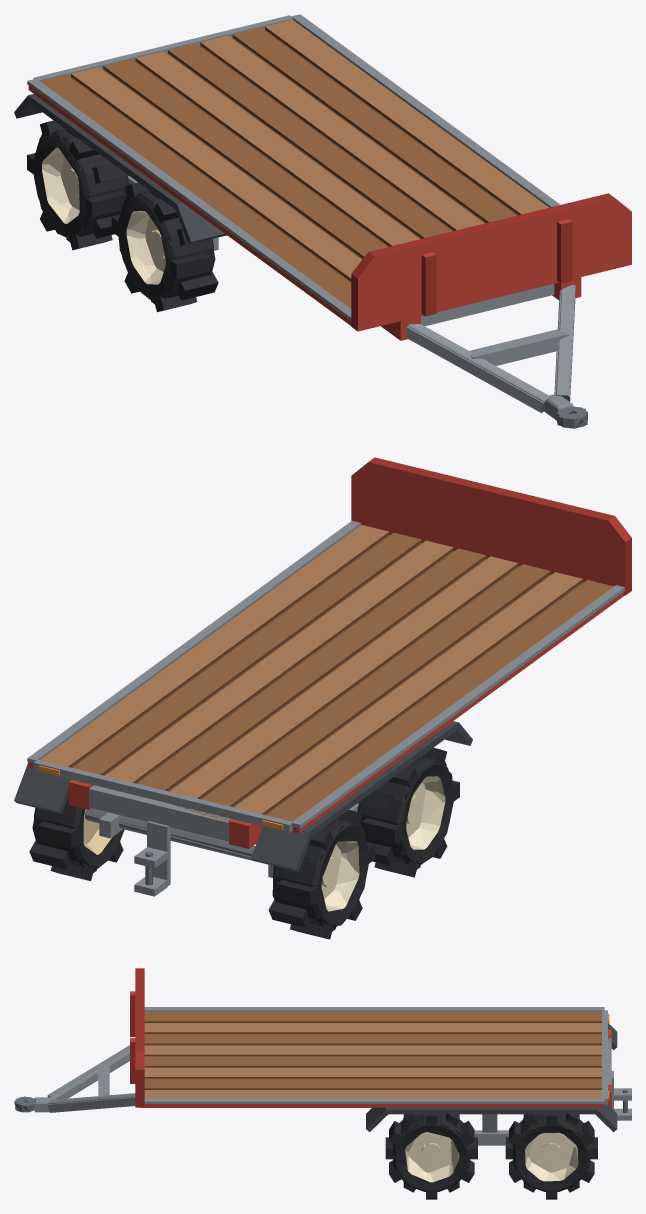
Rendered from FMS_Mach_Trailer_Flatbed.fbx.
The picture shows the model from 3 angles, top to bottom: view 1: azimuth 30°, elevation 25°; view 2: azimuth 150°, elevation 25°; view 3: azimuth 270°, elevation 25°; orthographic projection. The views are drawn at different scales.
Parts seen in each view (by area): view 1: Chassis, Wheel_RR, Wheel_FR, Chassis_Low1, Wheel_FR_Low1, Wheel_RR_Low1; view 2: Chassis, Wheel_RR, Wheel_FR, Chassis_Low1, Wheel_RL, Wheel_FR_Low1, Wheel_RR_Low1, Wheel_RL_Low1; view 3: Chassis, Wheel_RL, Wheel_FL, Chassis_Low1, Wheel_RL_Low1, Wheel_FL_Low1.
Boxes of the visible parts, x1,y1,x2,y2 form: Chassis: (14, 14, 631, 428); Wheel_RR: (27, 120, 128, 250); Wheel_FR: (111, 182, 218, 312); Chassis_Low1: (16, 96, 614, 428); Wheel_FR_Low1: (111, 182, 218, 308); Wheel_RR_Low1: (27, 122, 129, 240); Chassis: (14, 457, 631, 896); Wheel_RR: (268, 810, 375, 939); Wheel_FR: (358, 747, 459, 877); Chassis_Low1: (68, 457, 631, 884); Wheel_RL: (29, 796, 124, 881); Wheel_FR_Low1: (357, 758, 459, 877); Wheel_RR_Low1: (269, 813, 375, 928); Wheel_RL_Low1: (30, 812, 113, 872); Chassis: (15, 968, 631, 1145); Wheel_RL: (505, 1114, 597, 1199); Wheel_FL: (385, 1114, 477, 1199); Chassis_Low1: (14, 968, 625, 1132); Wheel_RL_Low1: (506, 1114, 597, 1199); Wheel_FL_Low1: (385, 1114, 477, 1199).
Bounding box in the file's own units: 2.52 × 1.68 × 6.69.
